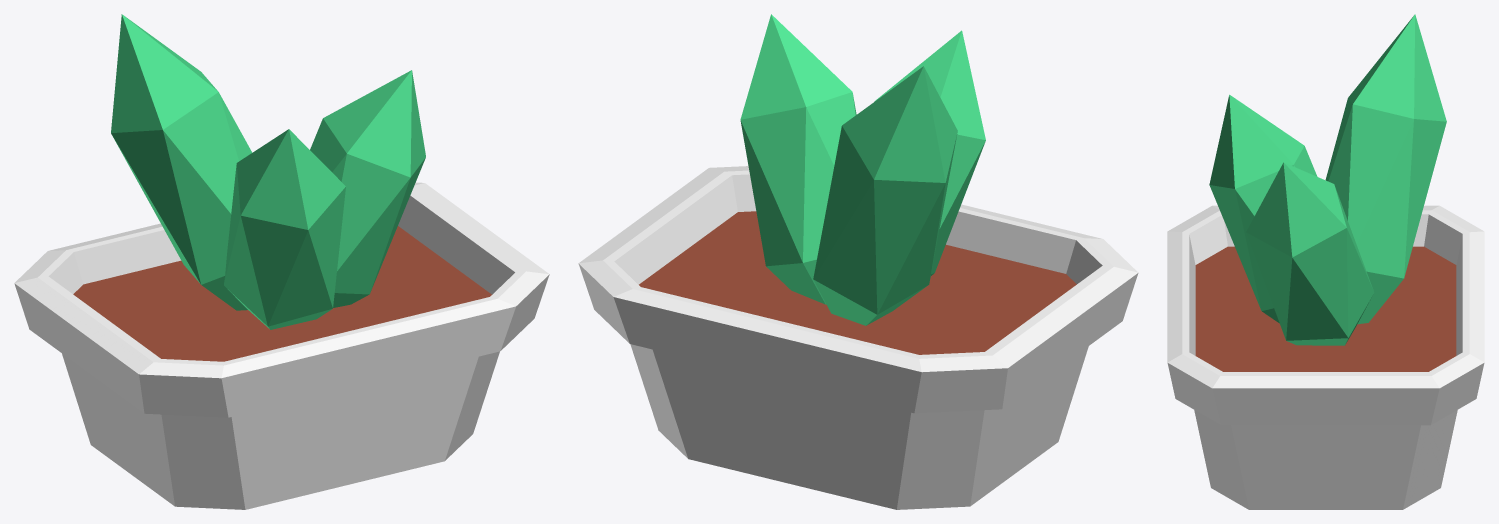
Rendered from plant2.fbx.
3 renders of one model, left to right at view 1: azimuth 30°, elevation 25°; view 2: azimuth 150°, elevation 25°; view 3: azimuth 270°, elevation 25°, orthographic. The views are drawn at different scales.
Visible parts, largest first — view 1: plant2; view 2: plant2; view 3: plant2.
Boxes of the visible parts, <box> form: plant2: <box>14,14,549,509</box>; plant2: <box>578,14,1138,509</box>; plant2: <box>1167,14,1484,509</box>.
Size of the model in its own units: 39.64 by 38.45 by 29.06.
